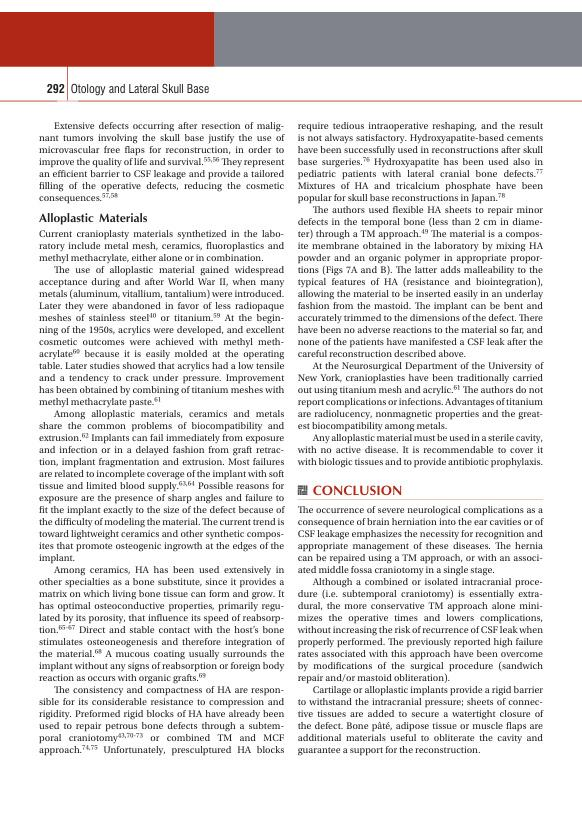header: (70, 82, 210, 96)
sub-section-heading: (38, 211, 149, 226), (312, 484, 404, 497)
text: (38, 229, 286, 758), (297, 120, 545, 469), (296, 504, 544, 758), (38, 120, 286, 206)
